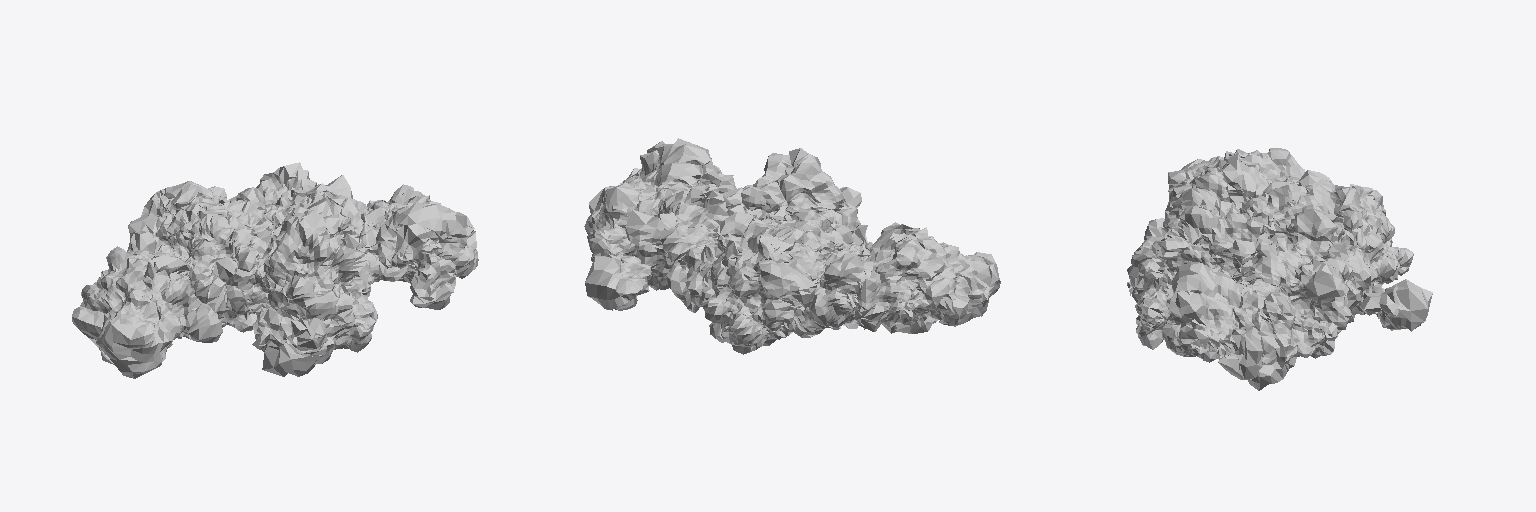
File: CloudDec1.obj
3 views of the same model, side by side, from view 1: azimuth 30°, elevation 25°; view 2: azimuth 150°, elevation 25°; view 3: azimuth 270°, elevation 25° (orthographic).
Parts seen in each view (by area): view 1: Cube.001; view 2: Cube.001; view 3: Cube.001.
Boxes of the visible parts, box(x1,y1,x2,y2) form: Cube.001: box(72, 162, 478, 378); Cube.001: box(584, 138, 1000, 354); Cube.001: box(1127, 148, 1432, 390).
Size of the model in its own units: 10.19 by 3.72 by 7.08.